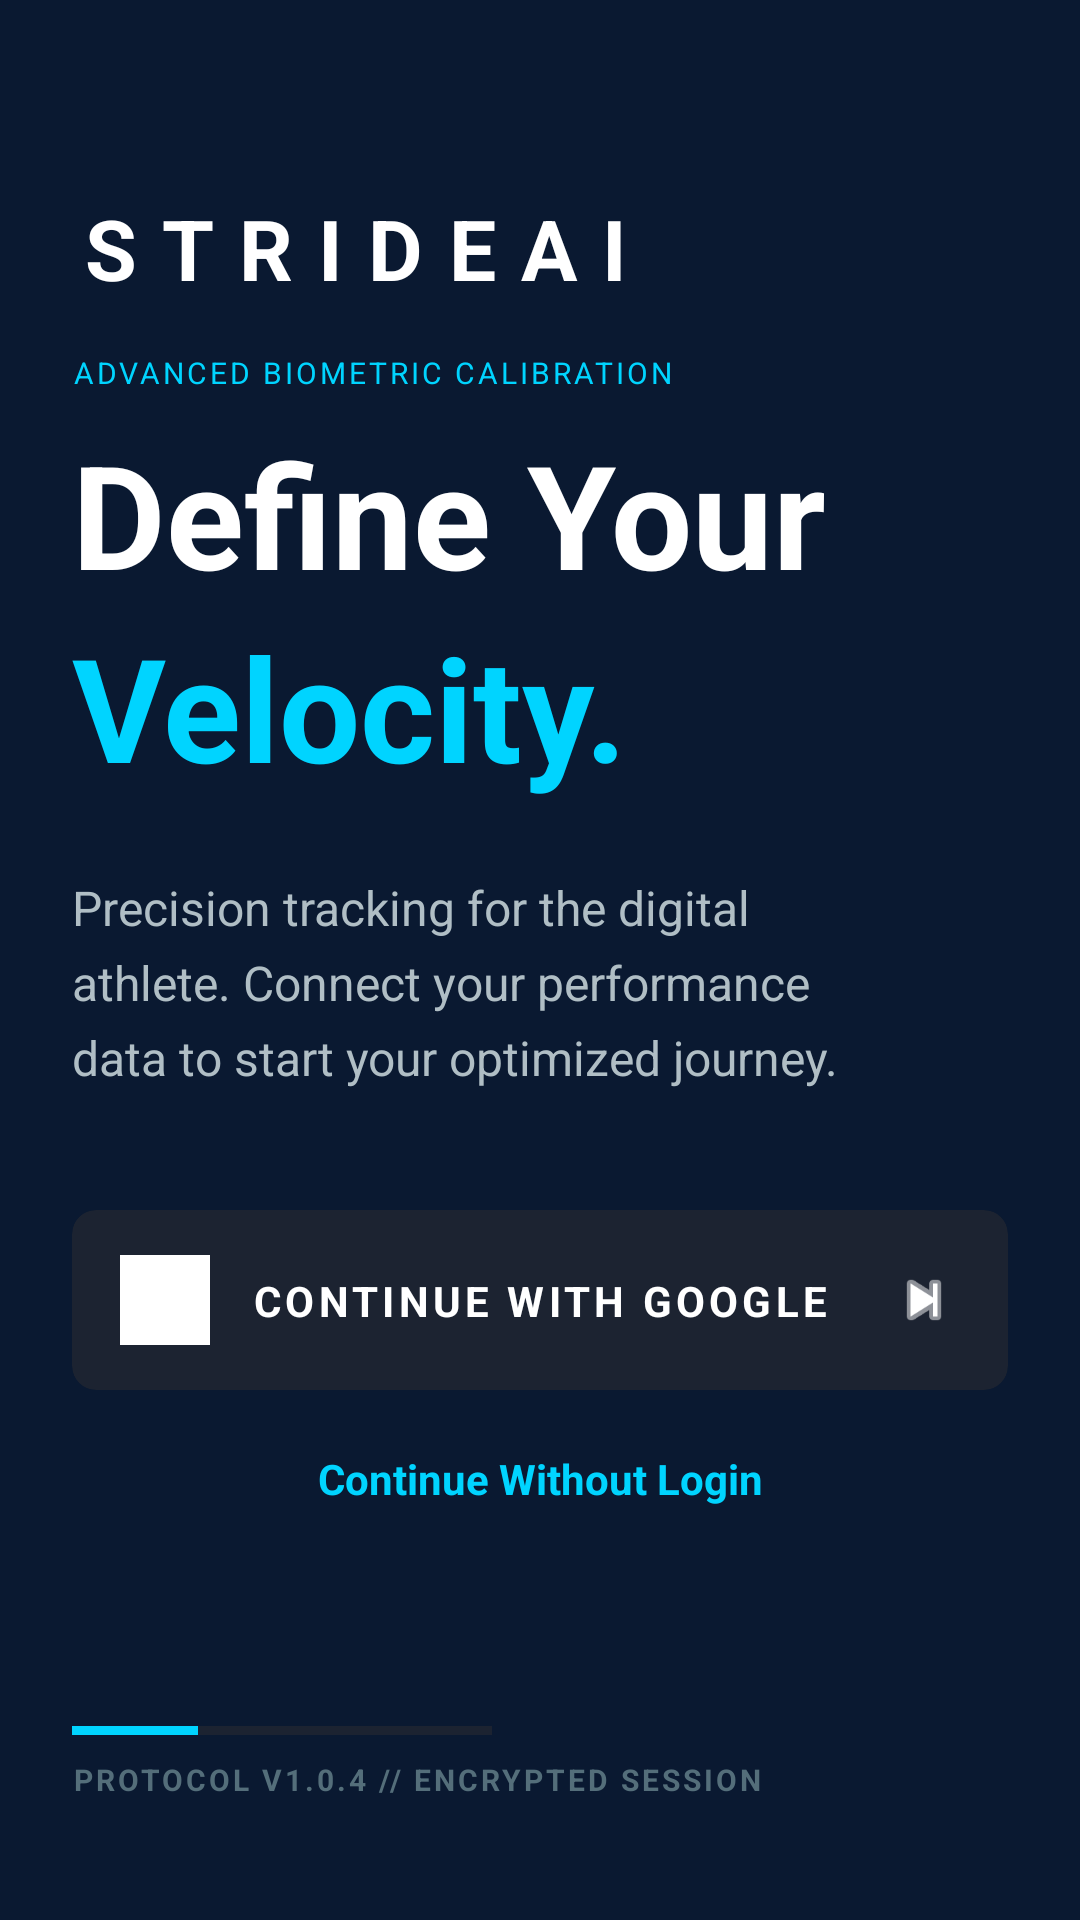

Icon click points for this 1080×1920 phone screenshot, format point (x, y):
next: point (924, 1300)
